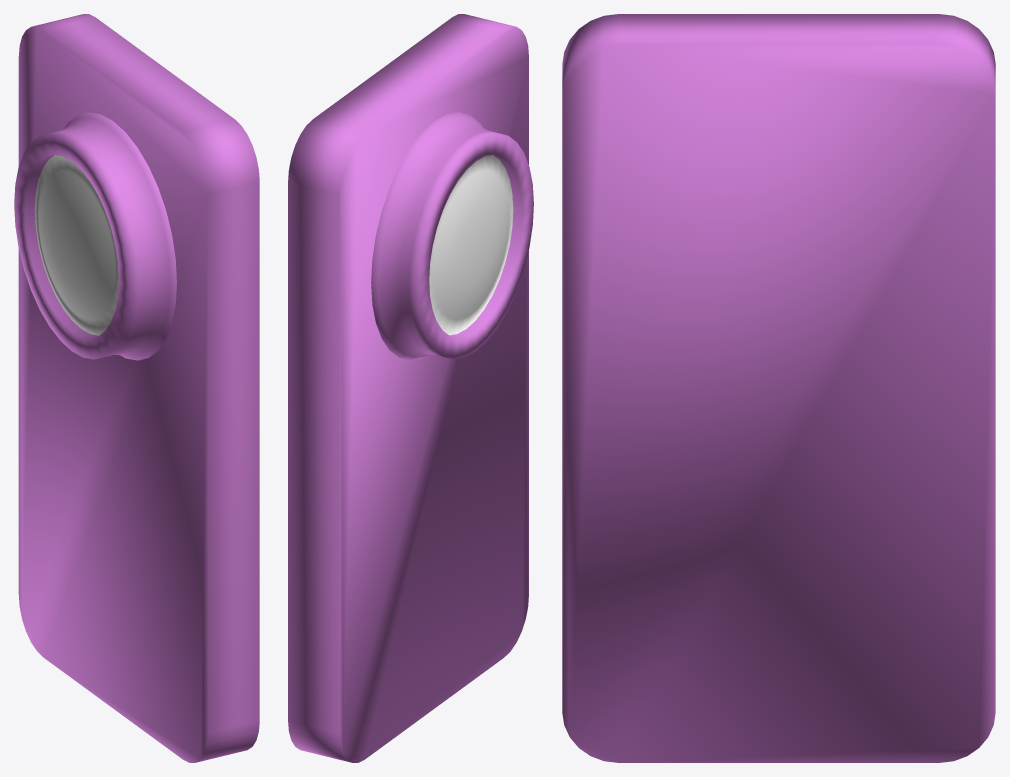
File: iPhone18.gltf
3 renders of one model, left to right at view 1: azimuth 30°, elevation 25°; view 2: azimuth 150°, elevation 25°; view 3: azimuth 270°, elevation 25°, orthographic. The views are drawn at different scales.
Parts seen in each view (by area): view 1: PhoneBody, PhoneCamera; view 2: PhoneBody, PhoneCamera; view 3: PhoneBody.
Part boxes in pixels (x1,y1,x2,y2): PhoneBody: (18,14,259,762); PhoneCamera: (14,112,176,360); PhoneBody: (288,14,528,762); PhoneCamera: (371,112,533,360); PhoneBody: (562,14,995,762).
Bounding box in the file's own units: 1.14 × 7.16 × 3.91.
